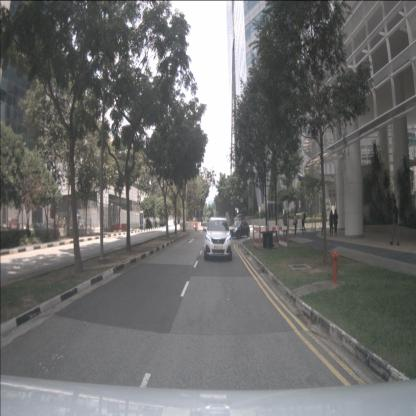human-pedestrian-adult: (390, 199, 400, 246), (321, 207, 327, 237), (333, 209, 339, 237), (329, 210, 334, 238), (283, 210, 288, 237), (301, 208, 306, 234), (293, 213, 298, 234)
movable_object-barrier: (180, 222, 186, 231), (184, 222, 190, 230), (188, 222, 193, 230), (122, 223, 127, 231), (111, 224, 117, 230), (117, 224, 122, 231), (195, 223, 199, 231)
vehicle-car: (204, 216, 233, 262), (228, 220, 250, 239), (234, 214, 245, 223)
